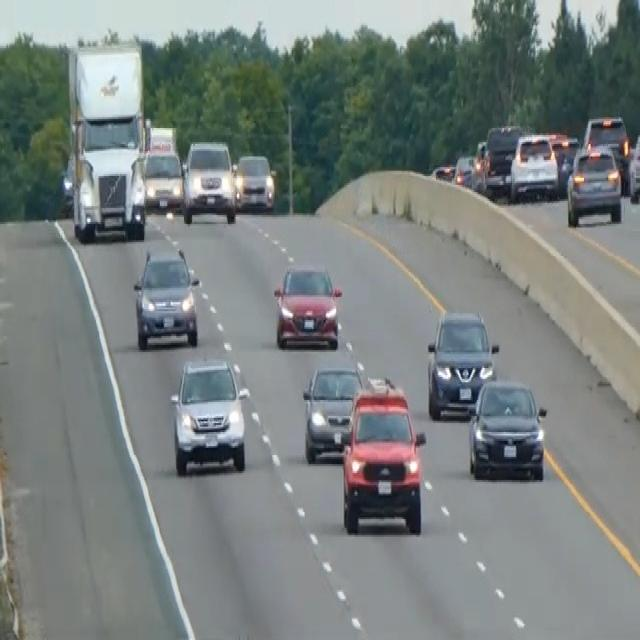car: (169, 356, 246, 476), (467, 375, 547, 480), (425, 308, 498, 420), (132, 244, 200, 350), (301, 361, 364, 464), (272, 262, 342, 351), (181, 137, 237, 224), (566, 142, 622, 228), (509, 131, 559, 201), (582, 114, 630, 183), (482, 122, 522, 196), (142, 146, 183, 212), (234, 151, 275, 212), (547, 130, 578, 190), (58, 153, 75, 215), (452, 151, 475, 189), (470, 139, 487, 190), (627, 130, 639, 202), (430, 162, 455, 183)
jeep: (338, 381, 427, 535)
lorry: (65, 39, 148, 242)
